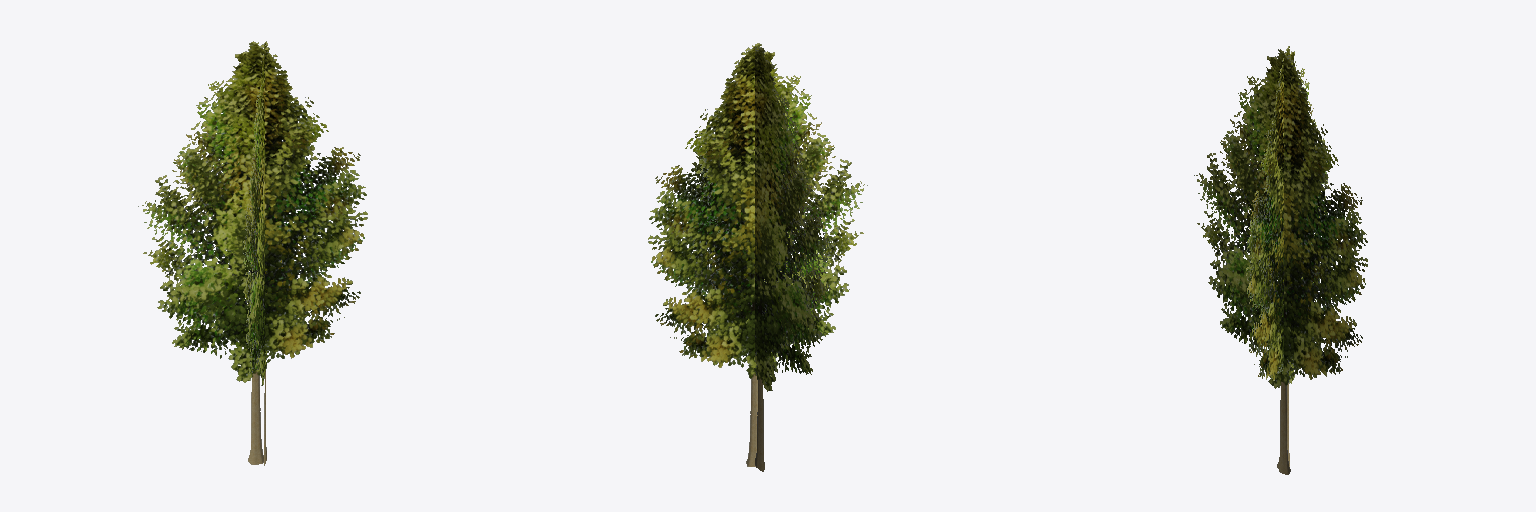
The picture shows the model from 3 angles: view 1: azimuth 30°, elevation 25°; view 2: azimuth 150°, elevation 25°; view 3: azimuth 270°, elevation 25°; orthographic projection.
Parts seen in each view (by area): view 1: Plane, Plane.002; view 2: Plane.002, Plane; view 3: Plane.002, Plane.
Part boxes in pixels (x1,y1,x2,y2): Plane: (138, 41, 367, 464); Plane.002: (243, 41, 281, 465); Plane.002: (648, 43, 867, 466); Plane: (691, 47, 831, 471); Plane.002: (1194, 49, 1367, 474); Plane: (1246, 46, 1328, 466).
Size of the model in its own units: 3.19 by 6.57 by 2.58.
Materials: 2 (1 with a texture image).